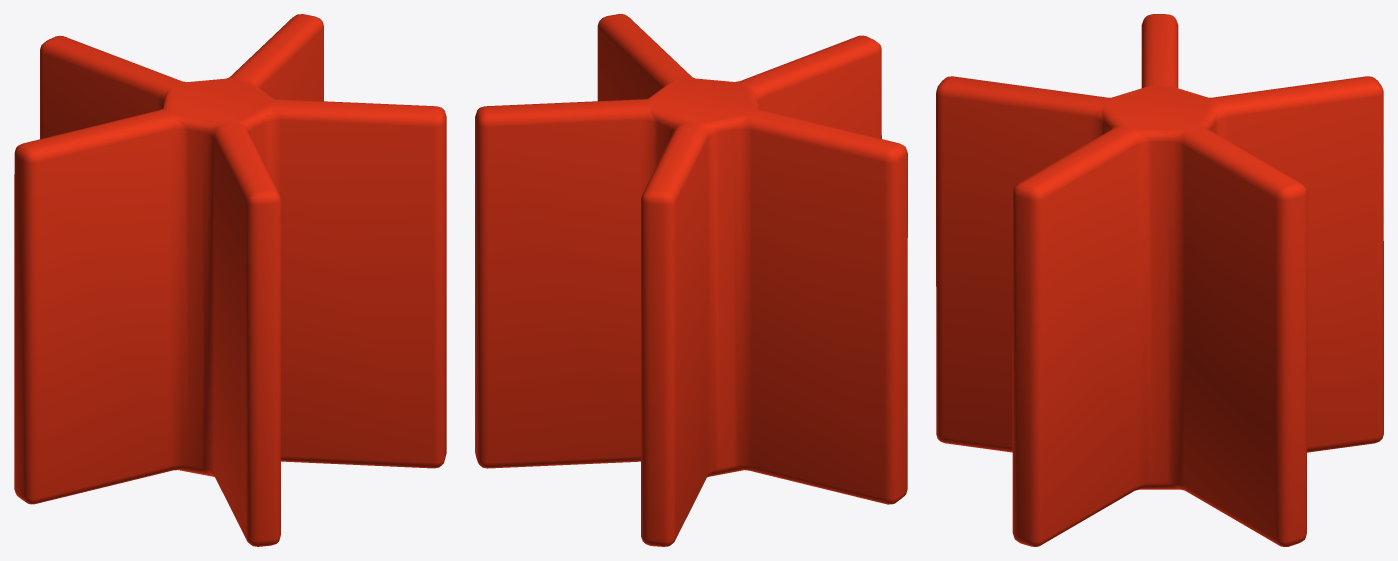
File: trap_platformcirclehorizontal.glb
The picture shows the model from 3 angles, left to right: view 1: azimuth 30°, elevation 25°; view 2: azimuth 150°, elevation 25°; view 3: azimuth 270°, elevation 25°; orthographic projection.
Parts seen in each view (by area): view 1: Cylinder.027_visual; view 2: Cylinder.027_visual; view 3: Cylinder.027_visual.
Part boxes in pixels (bbox=[...]): Cylinder.027_visual: bbox=[14, 14, 446, 546]; Cylinder.027_visual: bbox=[475, 14, 907, 546]; Cylinder.027_visual: bbox=[936, 14, 1383, 546].
Size of what is drawn, in the model's own units: 7.64 by 7.1 by 8.01.
1 material, 1 textured.
